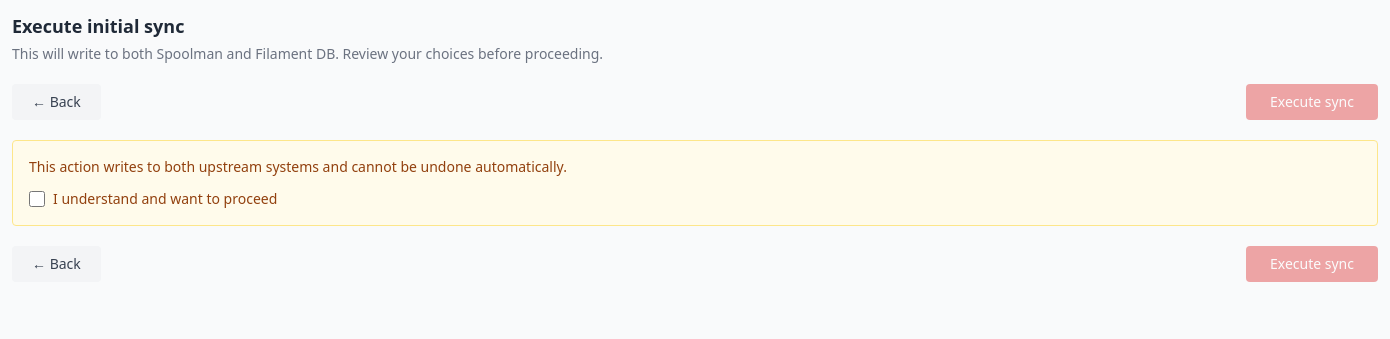
Test: Step6Execute — result view › does NOT show breakdown line when counter is zero
Click the checkbox at [37, 199], box [29,191,45,207]
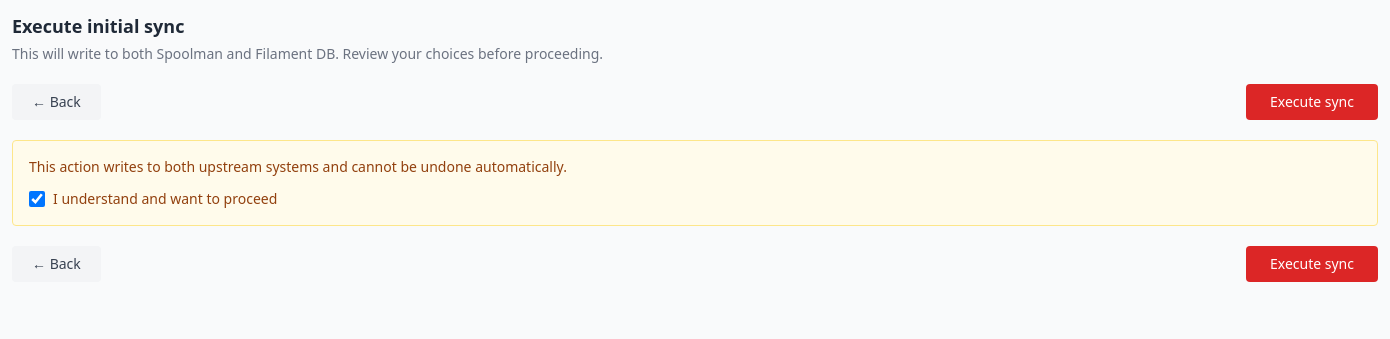
Click the 1st button "Execute sync" at [1312, 102], box [1246,84,1378,120]
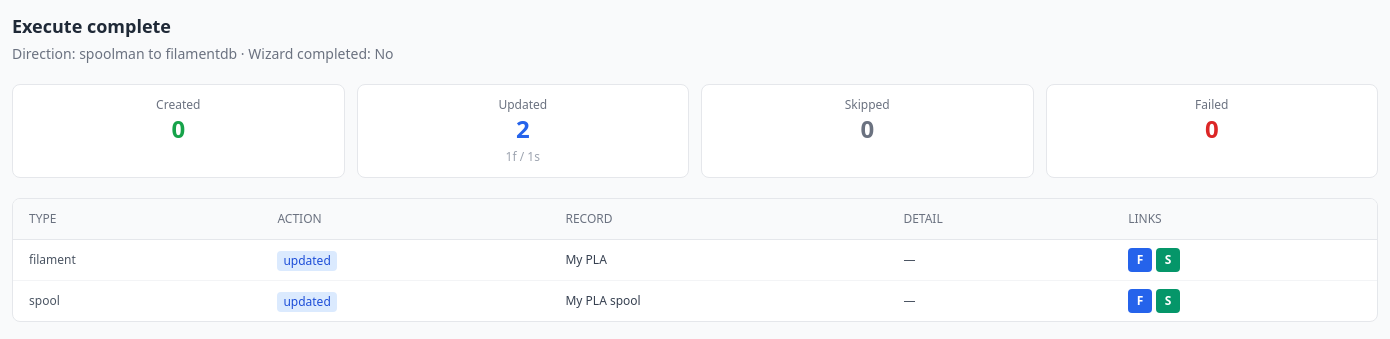
expect the text "2" is shown: met, box [516,112,530,145]
expect the text "1f / 1s" is shown: met, box [506,148,540,165]
